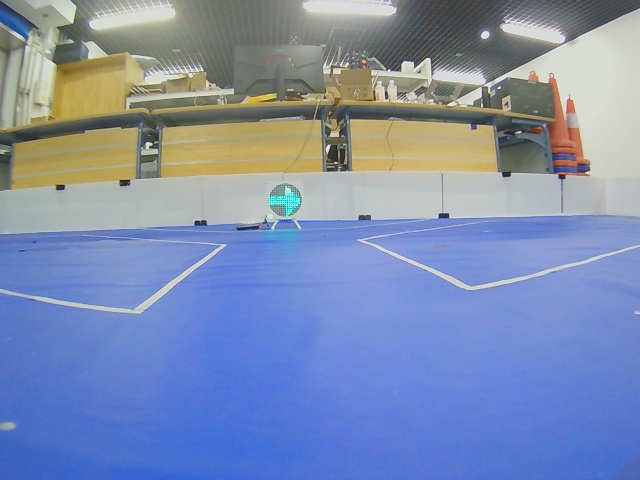right_green: (268, 183, 302, 217)
